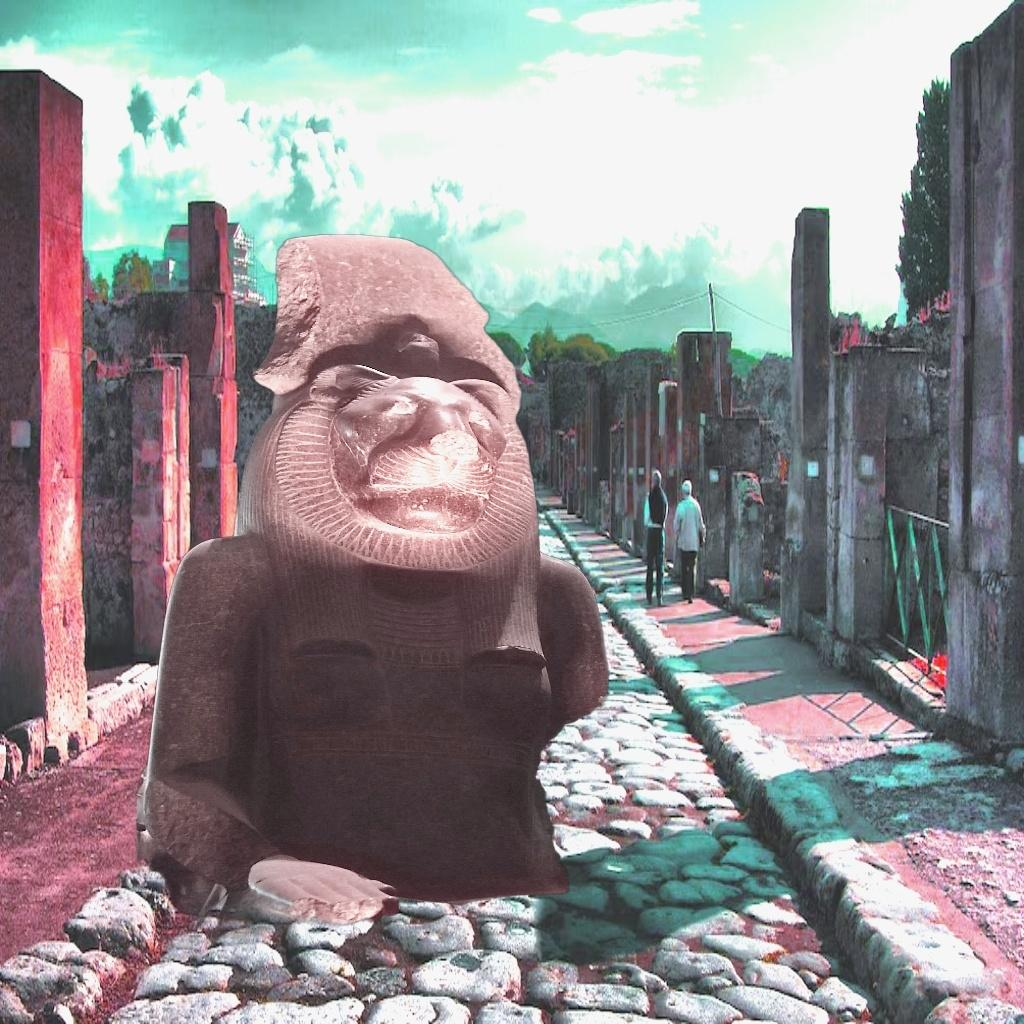Seated Statue of God Sekhmet: (137, 228, 787, 1018)
